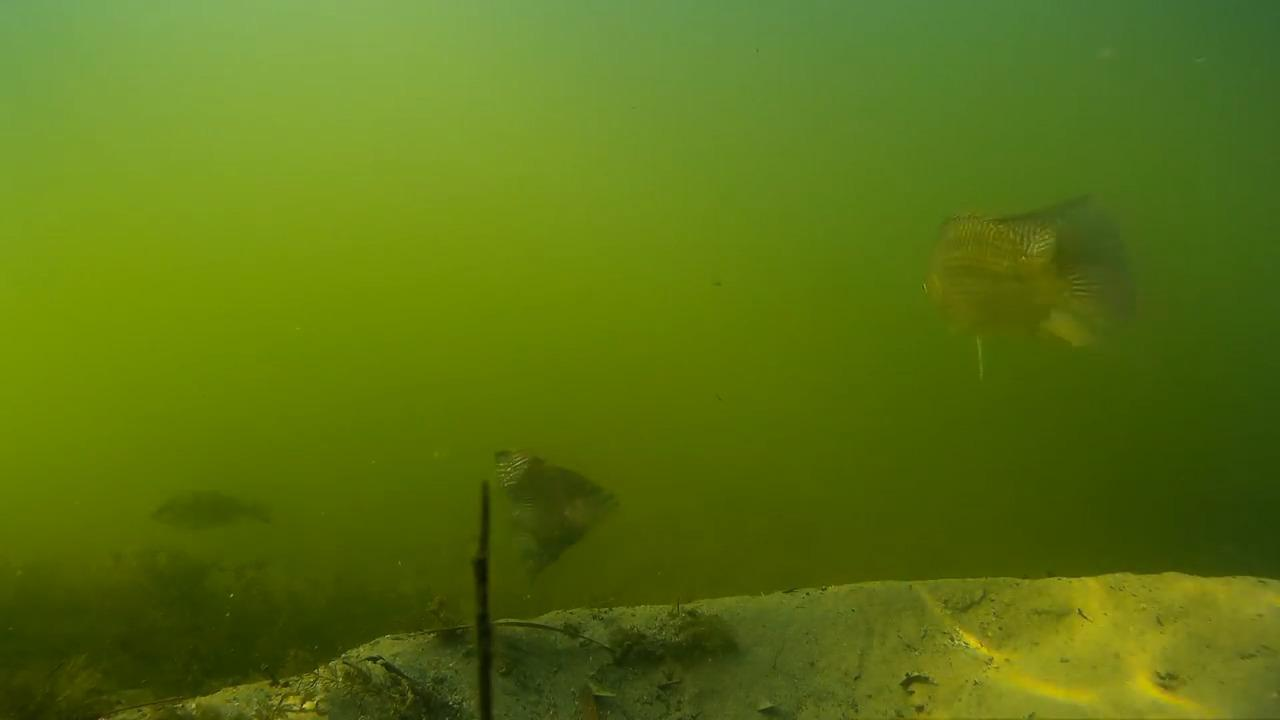Tilapia: (910, 200, 1155, 388), (490, 434, 631, 592), (142, 486, 299, 546)
